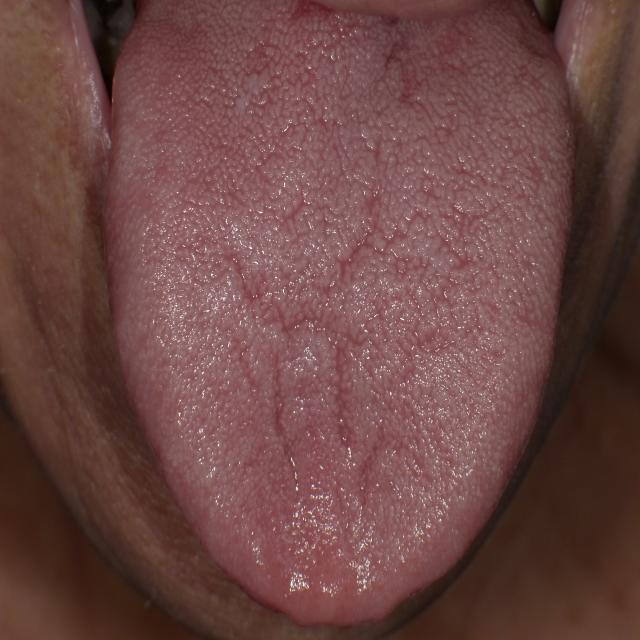baitaishe: (103, 2, 576, 626)
liewenshe: (227, 189, 378, 512)
